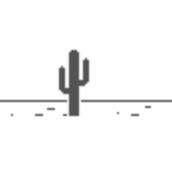t-rex: (54, 47, 93, 118)
